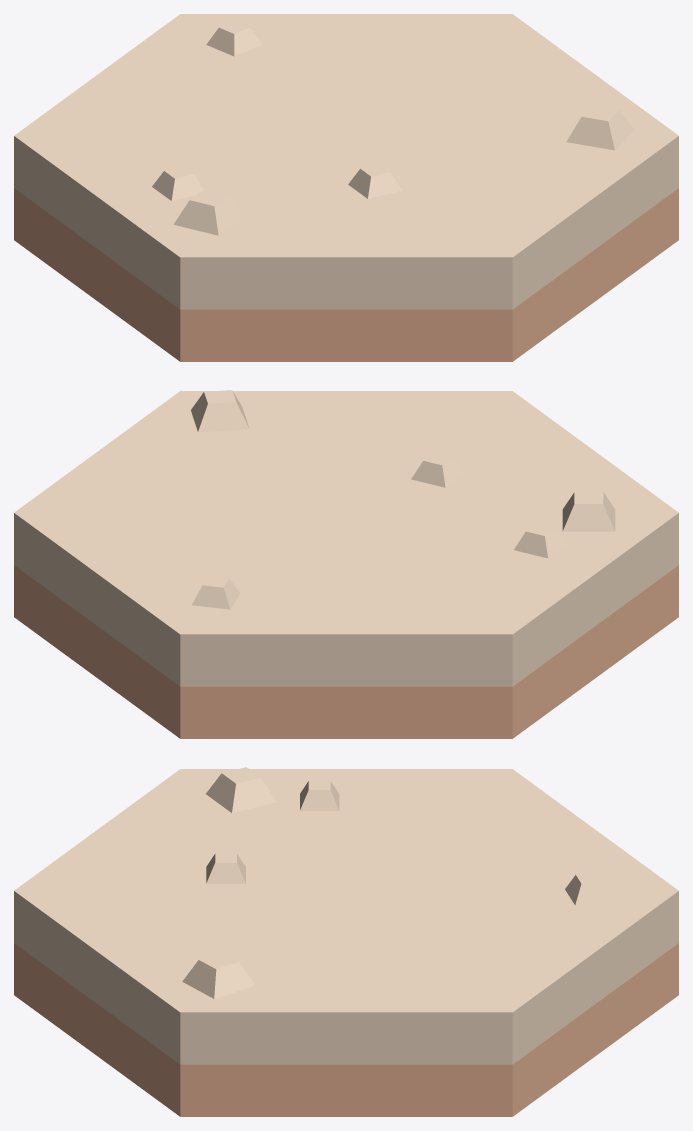
The model's file is clay-transformed.glb.
The picture shows the model from 3 angles, top to bottom: view 1: azimuth 30°, elevation 25°; view 2: azimuth 150°, elevation 25°; view 3: azimuth 270°, elevation 25°; orthographic projection.
Parts seen in each view (by area): view 1: sand_rocks; view 2: sand_rocks; view 3: sand_rocks.
Boxes of the visible parts, box(x1,y1,x2,y2) form: sand_rocks: box(14, 14, 678, 361); sand_rocks: box(14, 390, 678, 738); sand_rocks: box(14, 767, 678, 1116).
Size of the model in its own units: 1 by 0.2435 by 1.15.
